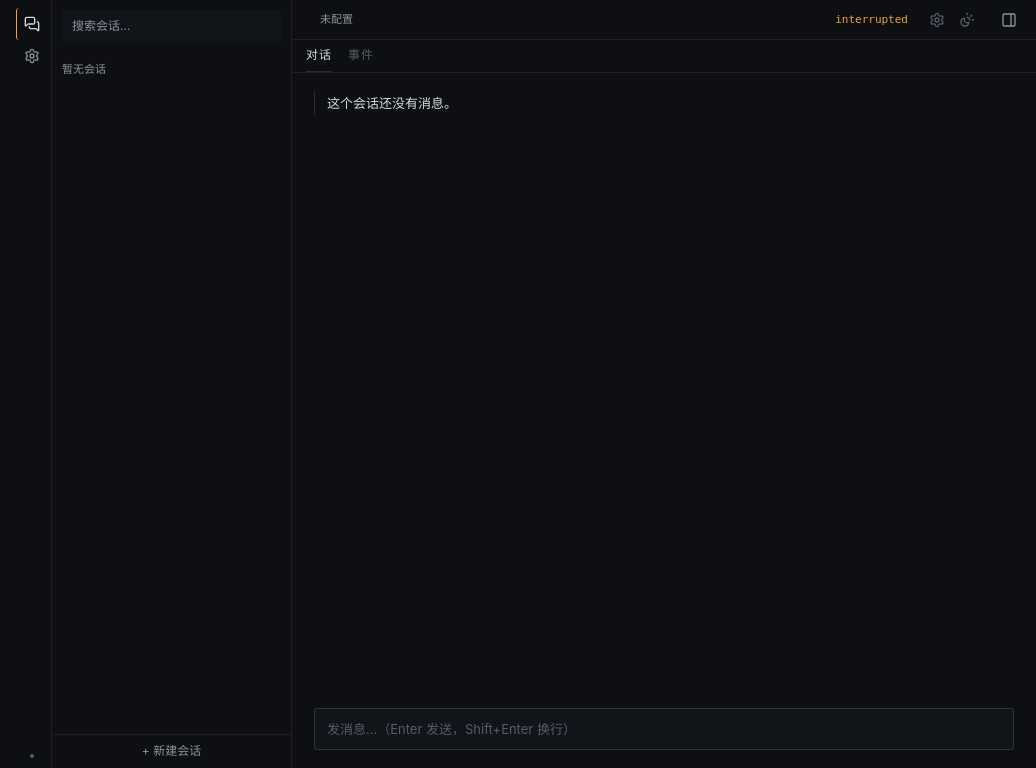
it: AppFrame catalog states › surfaces create-session failures without replacing them with a catalog refresh
Click the button "+ 新建会话" at coordinates (172, 751), box [52,734,291,767]
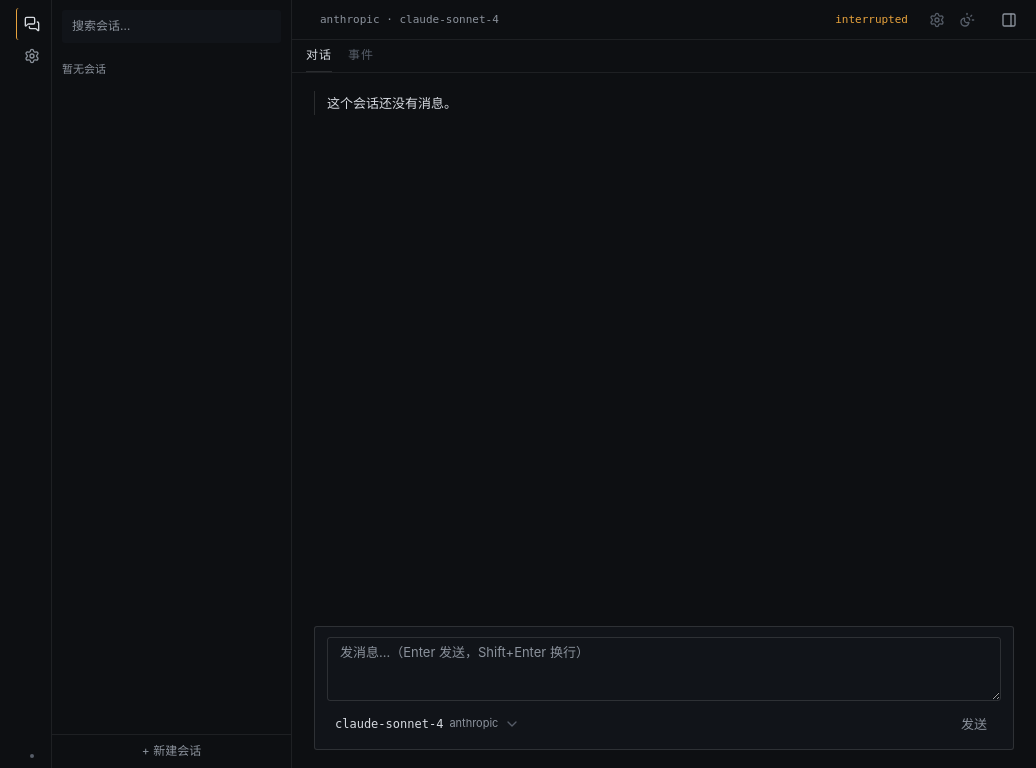
Type "Refactor the shell" into the text box named "消息输入" at coordinates (664, 669), box [327,637,1001,701]
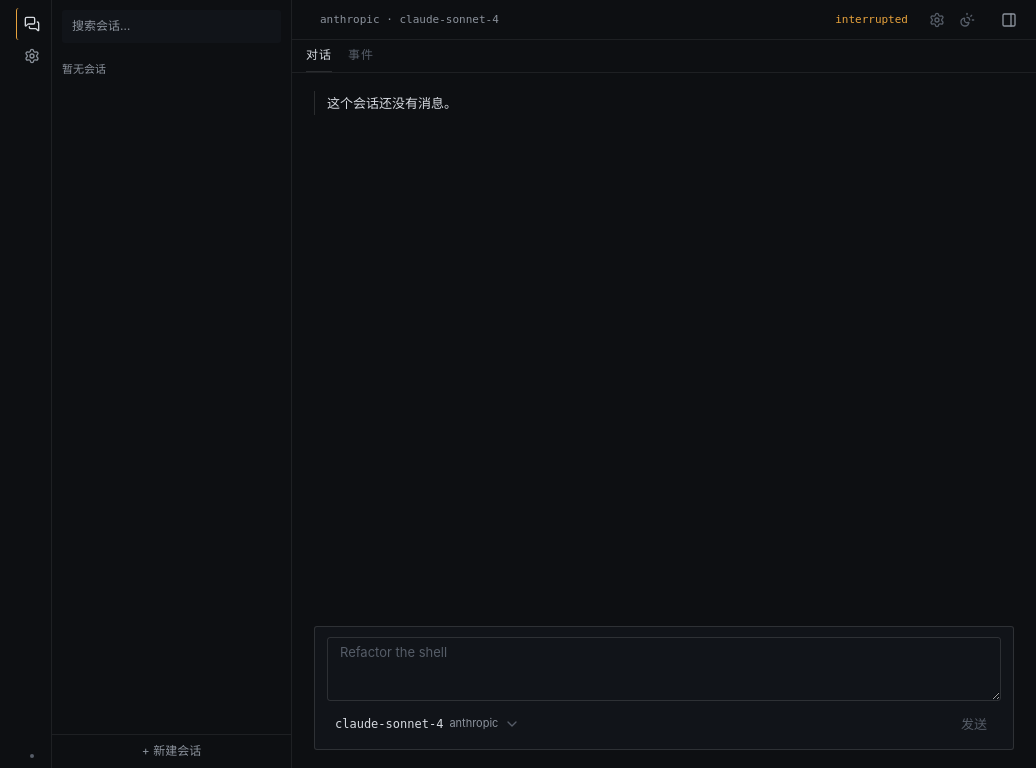
Click the button "发送" at coordinates (974, 724), box [947,709,1001,739]
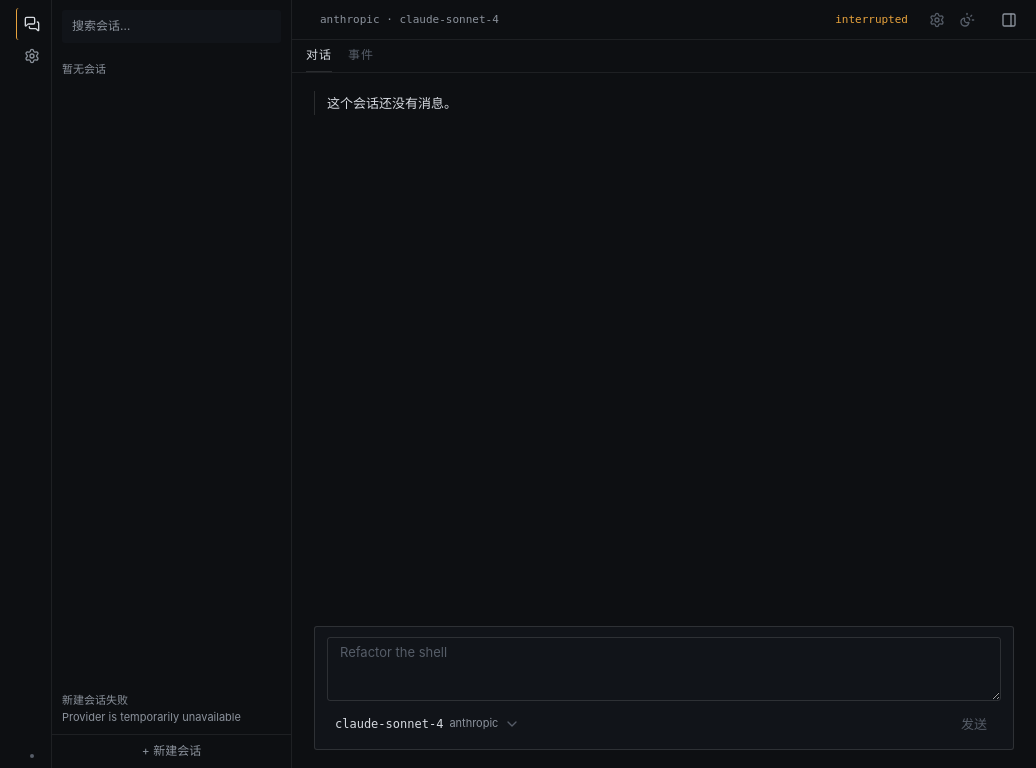
Expected: the button "+ 新建会话" is enabled, [52,734,291,767]
Now the message shows "新建会话失败", box [62,693,128,707]
Now the message shows "Provider is temporarily unavailable", box [62,710,241,724]
